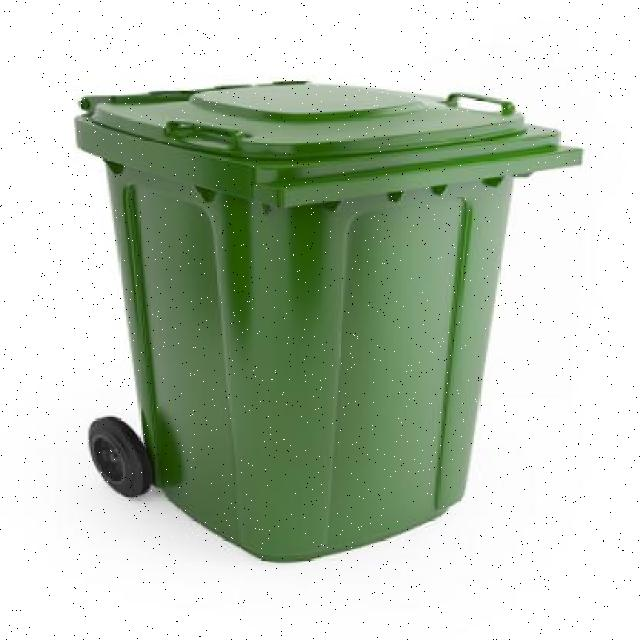garbage container: (54, 65, 600, 578)
